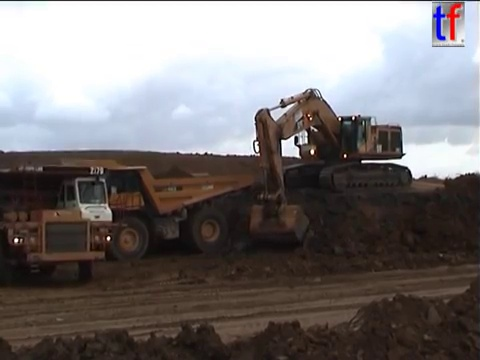excavator: (247, 86, 415, 246)
truck: (56, 158, 257, 262), (1, 162, 129, 287)
